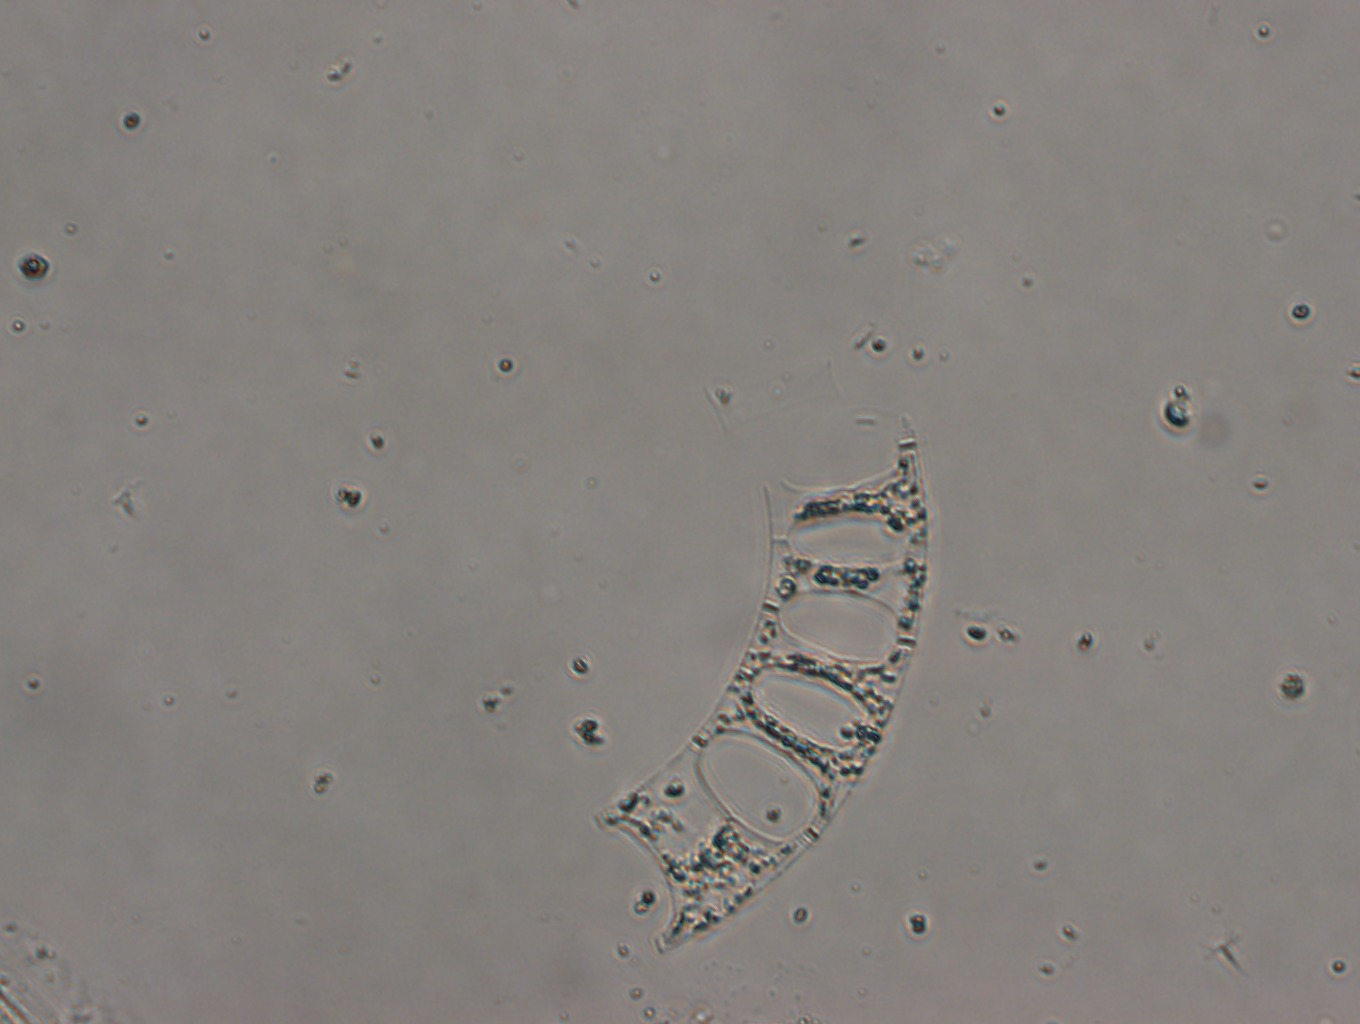eucampia: (596, 409, 933, 956)
